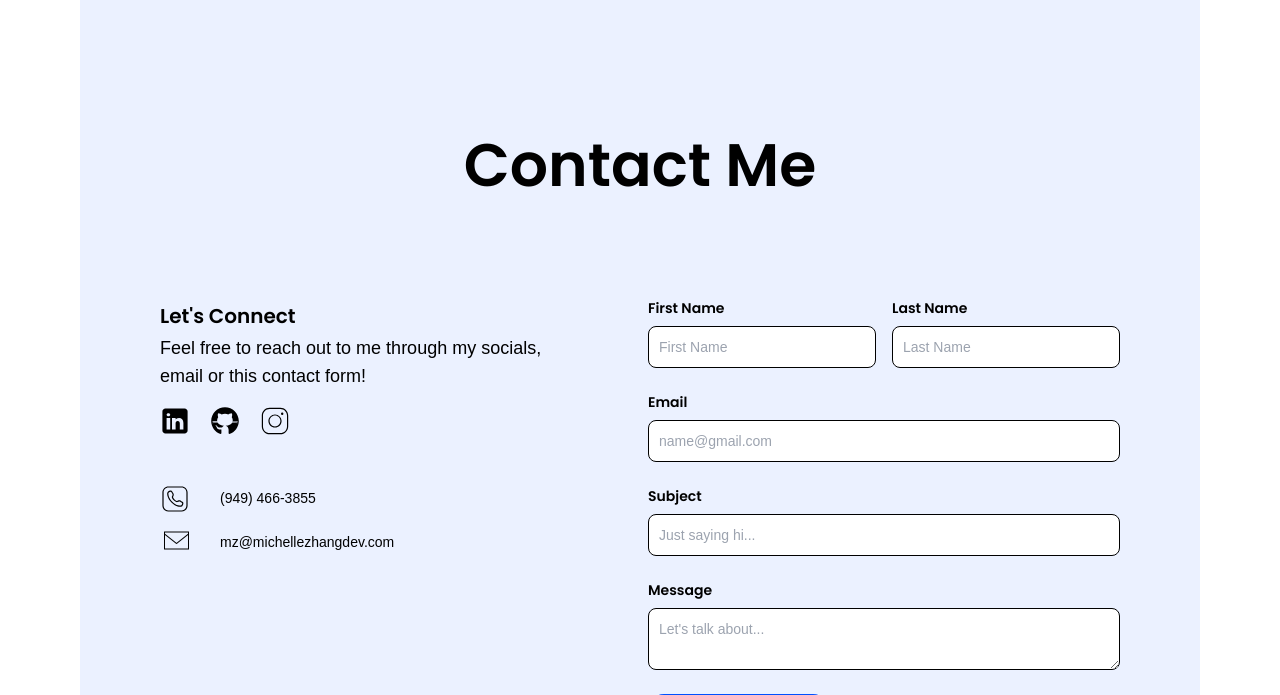
Test case: ContactMeSection Component › shows default error message if submission fails without specific error
Note: Fill in form fields
Type "John" into the field labelled "First Name" at (762, 347), box [648,326,876,368]
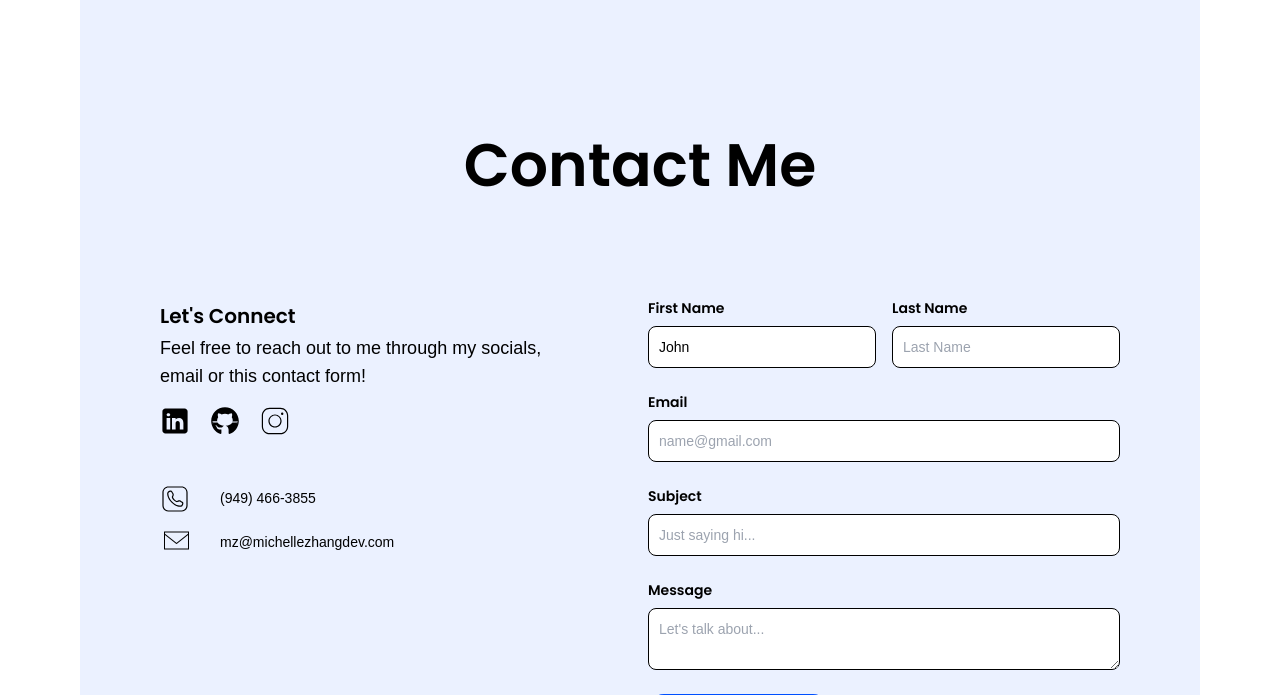
Type "Doe" into the field labelled "Last Name" at (1006, 347), box [892,326,1120,368]
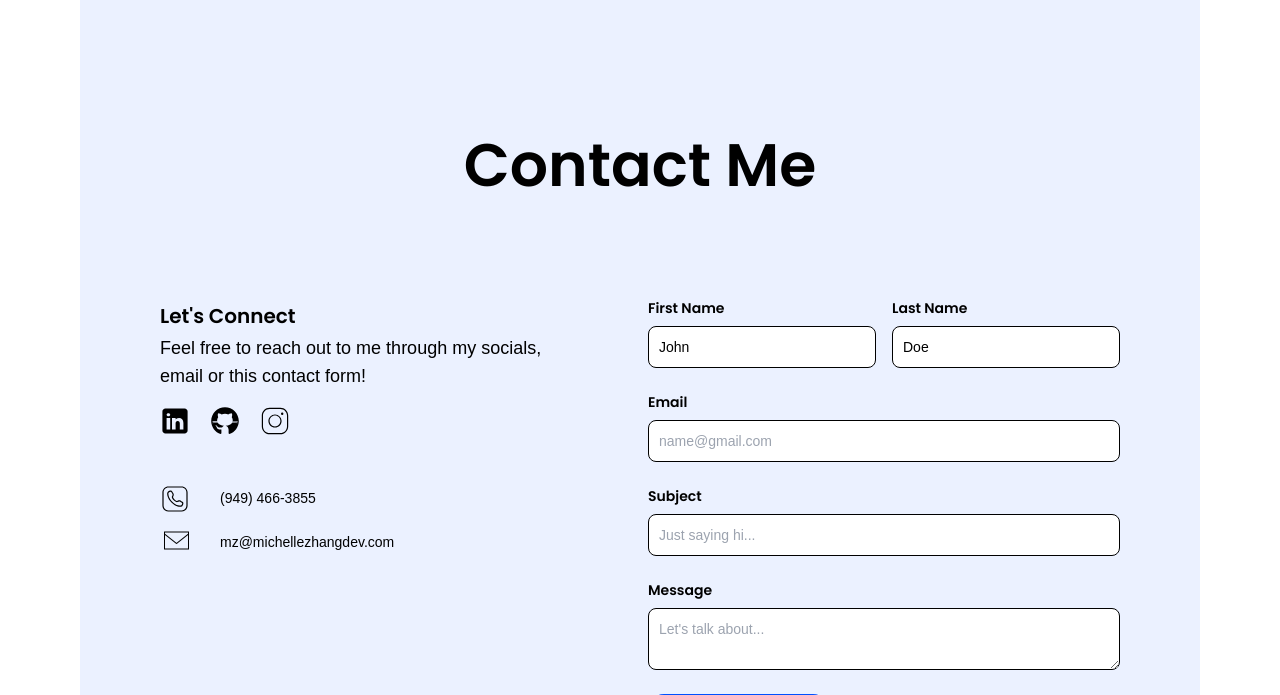
Type "john.doe@example.com" into the field labelled "Email" at (884, 441), box [648,420,1120,462]
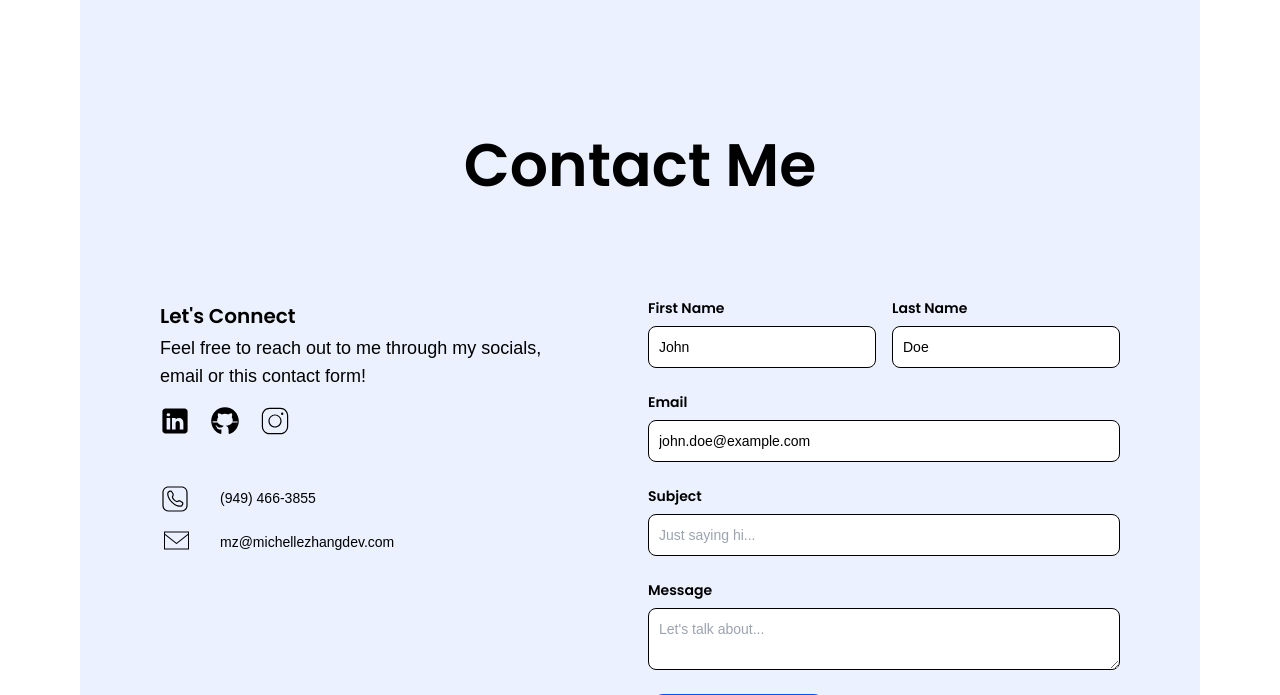
Type "Hello" into the field labelled "Subject" at (884, 535), box [648,514,1120,556]
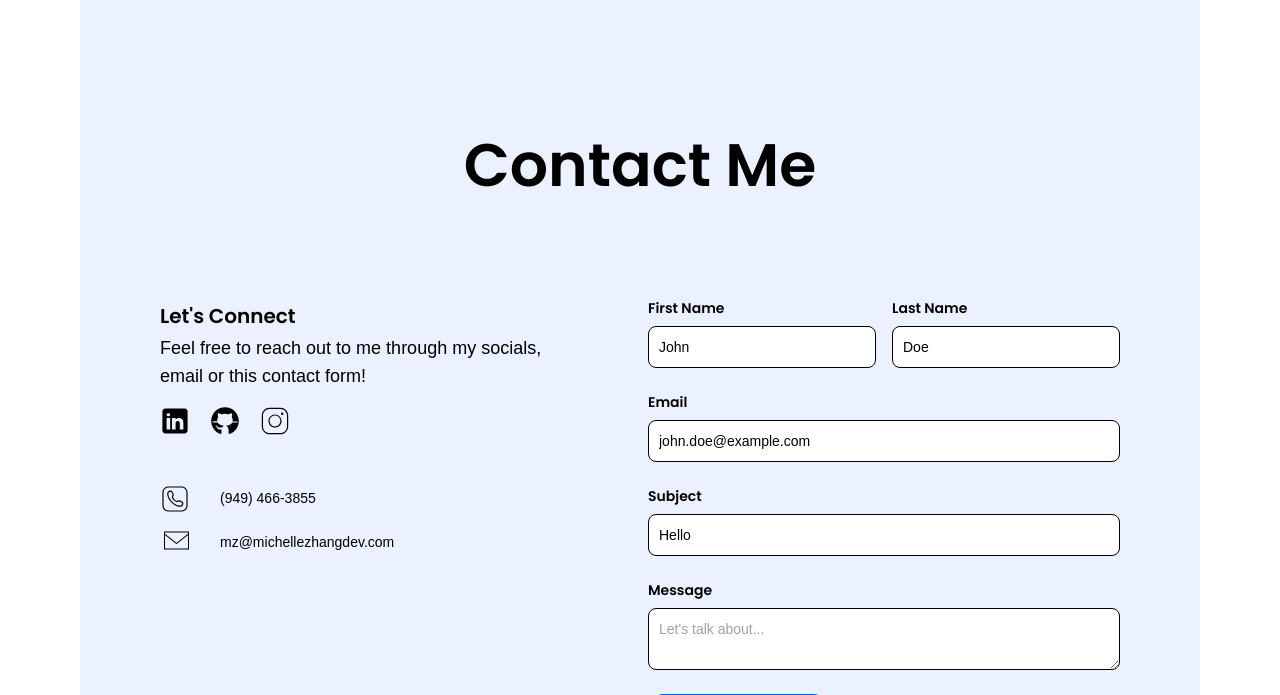
Type "This is a test message." into the text box labelled "Message" at (884, 639), box [648,608,1120,670]
(page scrolled)
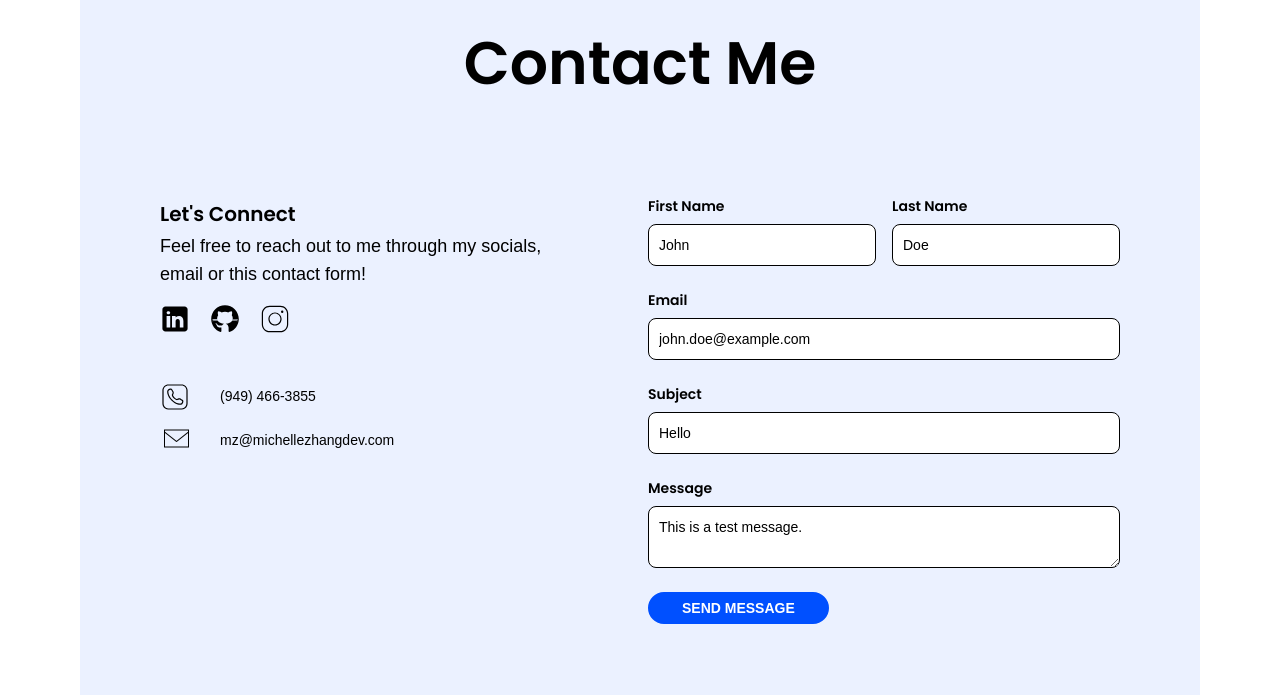
Note: Submit the form
Click the button "Send Message" at (738, 608), box [648,592,829,624]
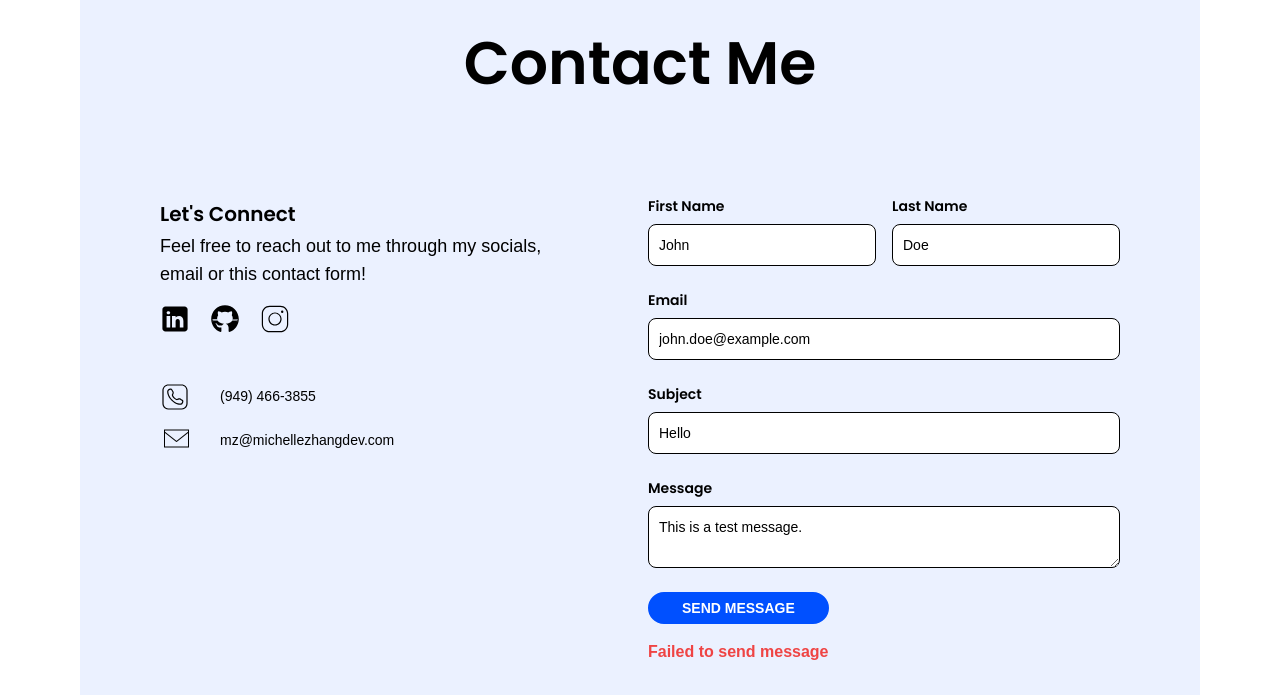
Check: the text "Failed to send message" is shown, box [648,643,828,660]
